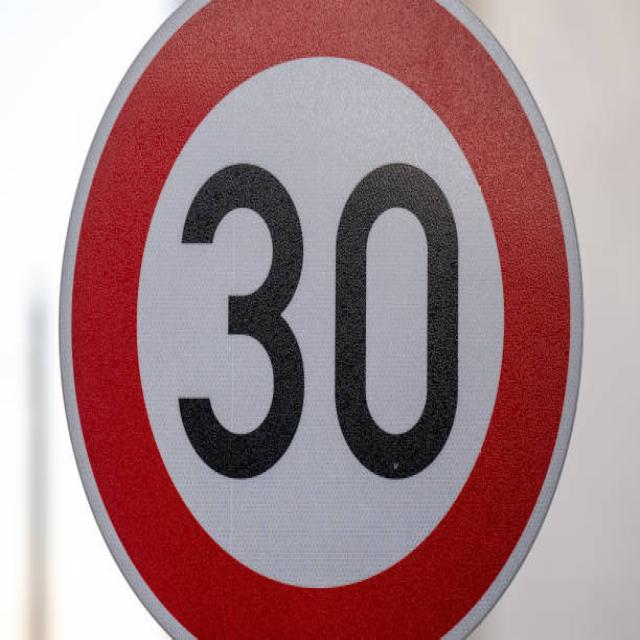Speed limit 30: (57, 2, 587, 638)
